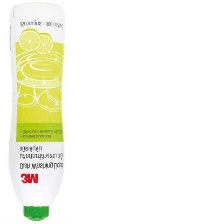cleaning_solution: (5, 0, 66, 223)
